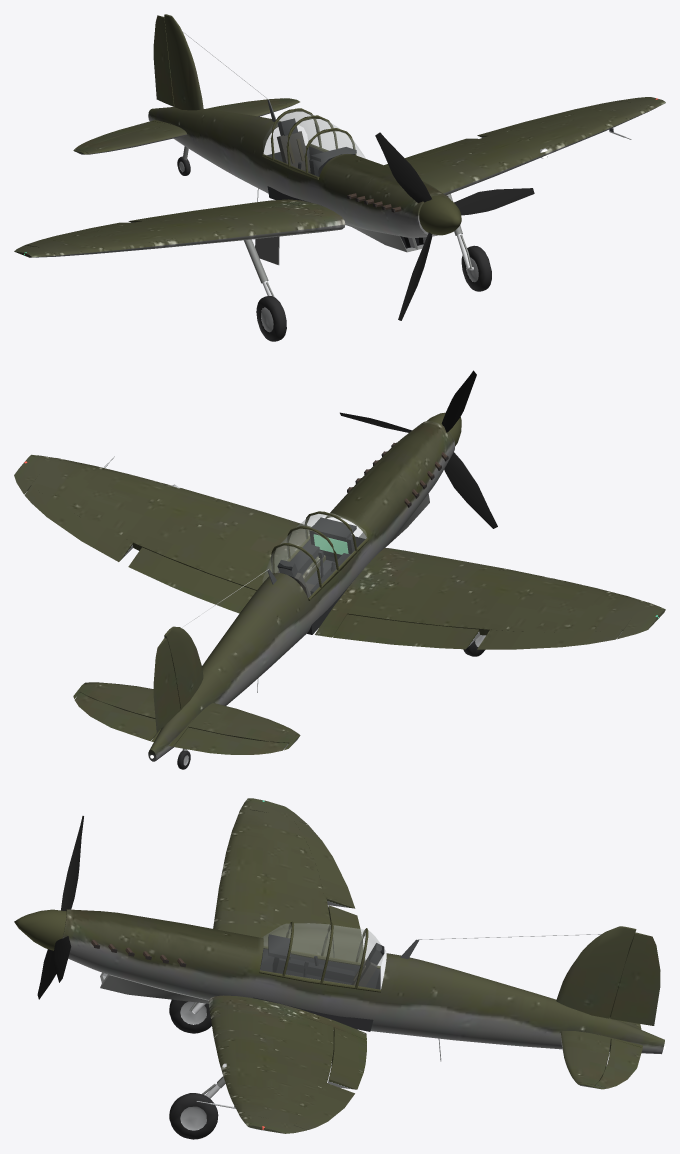
Rendered from vintage-prop-fighter_card.glb.
3 views of the same model, one above another, from view 1: azimuth 30°, elevation 25°; view 2: azimuth 150°, elevation 25°; view 3: azimuth 270°, elevation 25° (orthographic). The views are drawn at different scales.
Parts seen in each view (by area): view 1: wings_tail, fuselage, propeller_mesh, canopy_glass, cockpit, gear_main_R_mesh, gear_main_L_mesh, rudder_mesh, canopy_frame, radiator, gear_door_main_R_mesh, aileron_L_mesh (+1 smaller); view 2: wings_tail, fuselage, canopy_glass, flap_R_mesh, flap_L_mesh, cockpit, propeller_mesh, aileron_L_mesh, aileron_R_mesh, elevator_R_mesh, rudder_mesh, elevator_L_mesh (+1 smaller); view 3: wings_tail, fuselage, canopy_glass, cockpit, rudder_mesh, propeller_mesh, gear_main_L_mesh, flap_L_mesh, aileron_R_mesh, canopy_frame, flap_R_mesh, elevator_L_mesh (+3 smaller).
Part boxes in pixels (x1,y1,x2,y2): wings_tail: (14,14,665,257); fuselage: (148,107,450,237); propeller_mesh: (375,132,534,320); canopy_glass: (263,110,365,176); cockpit: (267,118,356,202); gear_main_R_mesh: (244,239,286,341); gear_main_L_mesh: (446,194,491,291); rudder_mesh: (153,15,174,106); canopy_frame: (262,108,356,179); radiator: (345,223,426,252); gear_door_main_R_mesh: (255,236,279,265); aileron_L_mesh: (477,101,621,137); wings_tail: (14,454,665,750); fuselage: (148,421,454,761); canopy_glass: (263,513,366,597); flap_R_mesh: (333,614,480,649); flap_L_mesh: (128,547,256,613); cockpit: (277,517,365,634); propeller_mesh: (340,370,497,528); aileron_L_mesh: (24,485,133,561); aileron_R_mesh: (477,628,622,649); elevator_R_mesh: (174,727,288,754); rudder_mesh: (153,638,180,732); elevator_L_mesh: (74,692,159,741); wings_tail: (208,798,642,1133); fuselage: (62,909,664,1054); canopy_glass: (260,923,386,989); cockpit: (253,934,384,1031); rudder_mesh: (610,932,660,1025); propeller_mesh: (14,816,83,999); gear_main_L_mesh: (169,1076,225,1139); flap_L_mesh: (328,1028,366,1089); aileron_R_mesh: (293,820,355,908); canopy_frame: (259,921,380,992); flap_R_mesh: (328,905,365,962); elevator_L_mesh: (595,1039,642,1088).
Bounding box in the file's own units: 11.01 × 3.85 × 9.26.
Materials: 25 (1 with a texture image).
